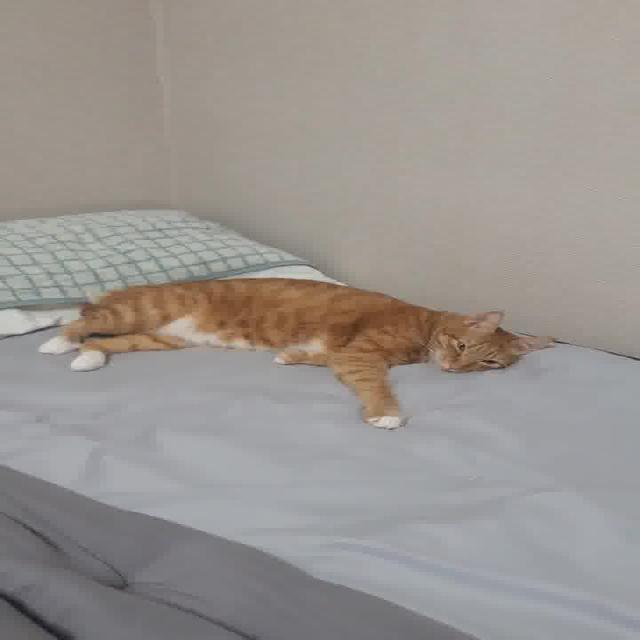cat: (0, 266, 576, 440)
